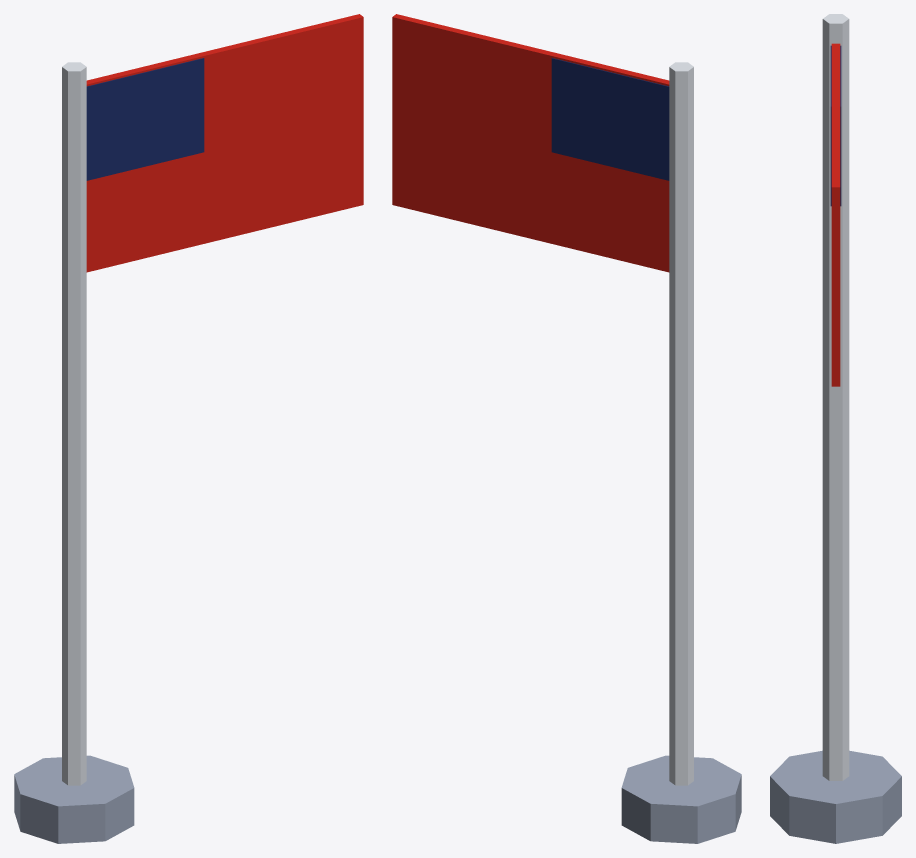
Rendered from lowpoly-flag_pole.glb.
3 renders of one model, left to right at view 1: azimuth 30°, elevation 25°; view 2: azimuth 150°, elevation 25°; view 3: azimuth 270°, elevation 25°, orthographic. The views are drawn at different scales.
Parts seen in each view (by area): view 1: flag_pole; view 2: flag_pole; view 3: flag_pole.
Part boxes in pixels (x1,y1,x2,y2): flag_pole: [14, 14, 363, 843]; flag_pole: [392, 14, 741, 843]; flag_pole: [770, 14, 901, 843].
Bounding box in the file's own units: 0.95 × 2 × 0.3.
